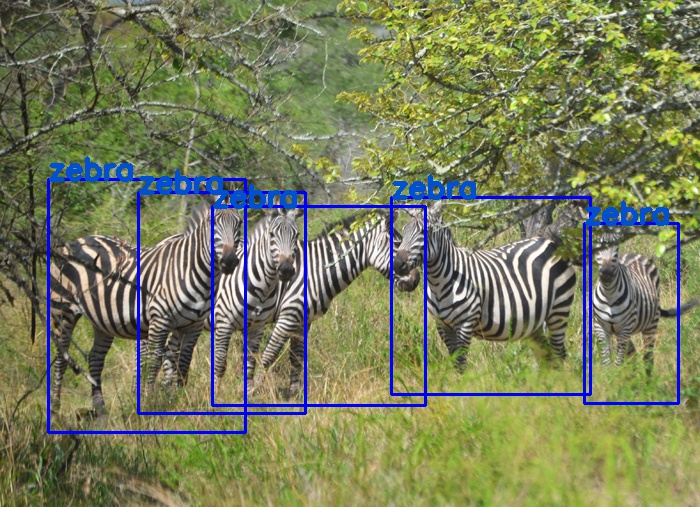zebra: (48, 178, 245, 431), (211, 205, 425, 404), (390, 196, 589, 393), (138, 192, 305, 412), (584, 222, 678, 403)
